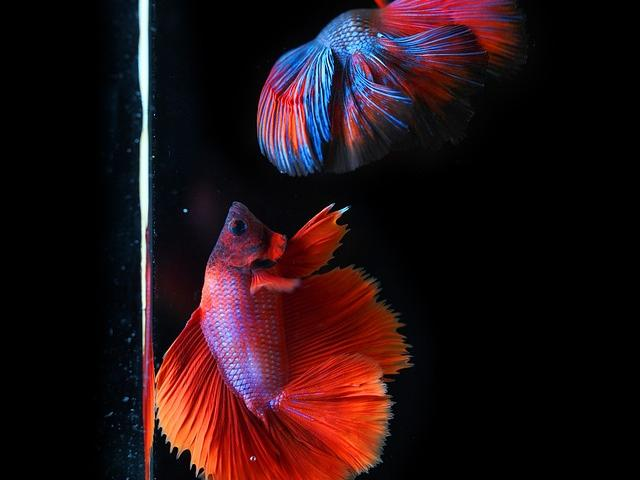Non_Gorille: (136, 0, 519, 480)
